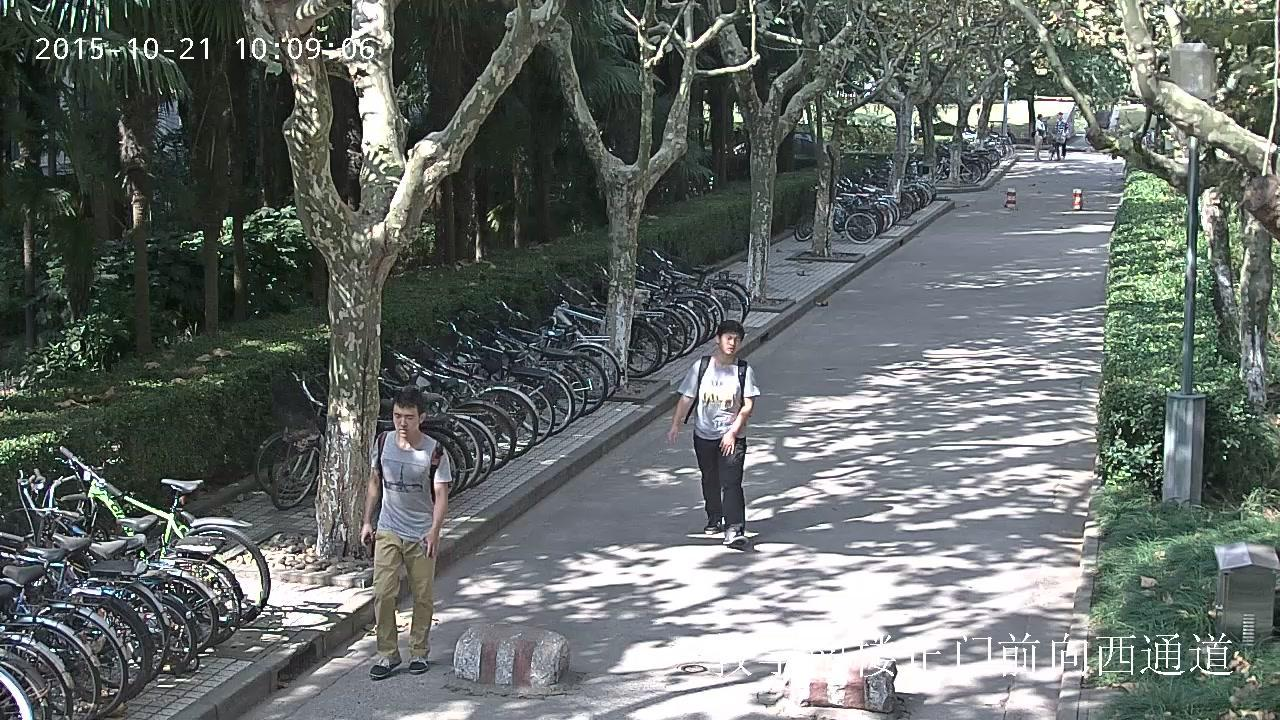face: (392, 403, 419, 437), (720, 331, 741, 354), (1058, 114, 1061, 118), (1040, 115, 1043, 119)
